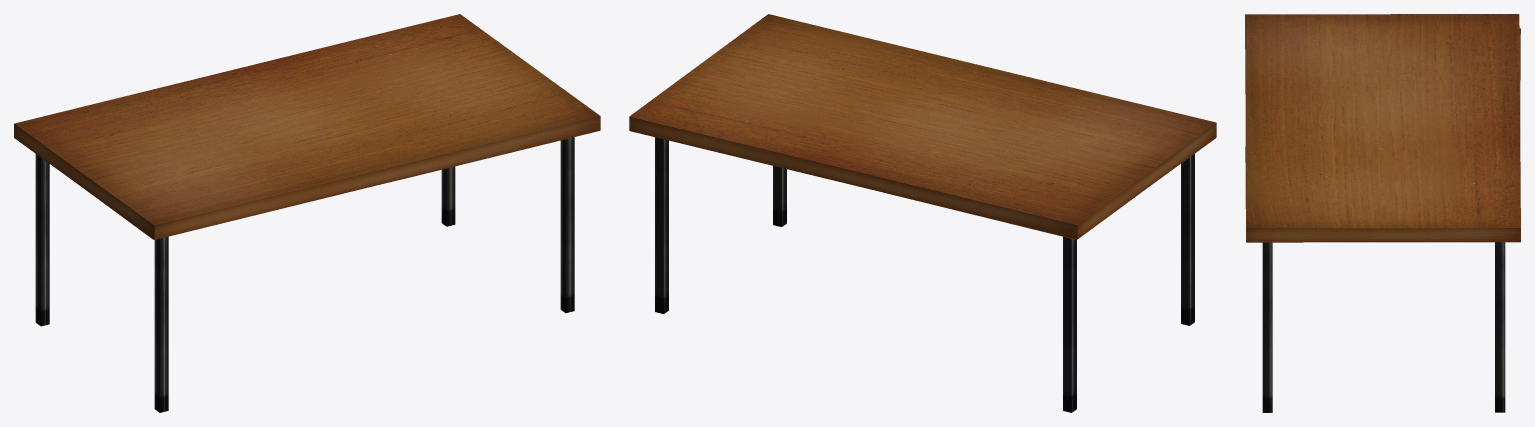
Rendered from table.glb.
3 renders of one model, left to right at view 1: azimuth 30°, elevation 25°; view 2: azimuth 150°, elevation 25°; view 3: azimuth 270°, elevation 25°, orthographic.
Visible parts, largest first — view 1: table; view 2: table; view 3: table.
Boxes of the visible parts, x1,y1,x2,y2 form: table: (14, 14, 600, 412); table: (629, 14, 1216, 412); table: (1245, 14, 1520, 412).
Bounding box in the file's own units: 101 × 42.41 × 54.92.
Materials: 6 (6 with a texture image).
